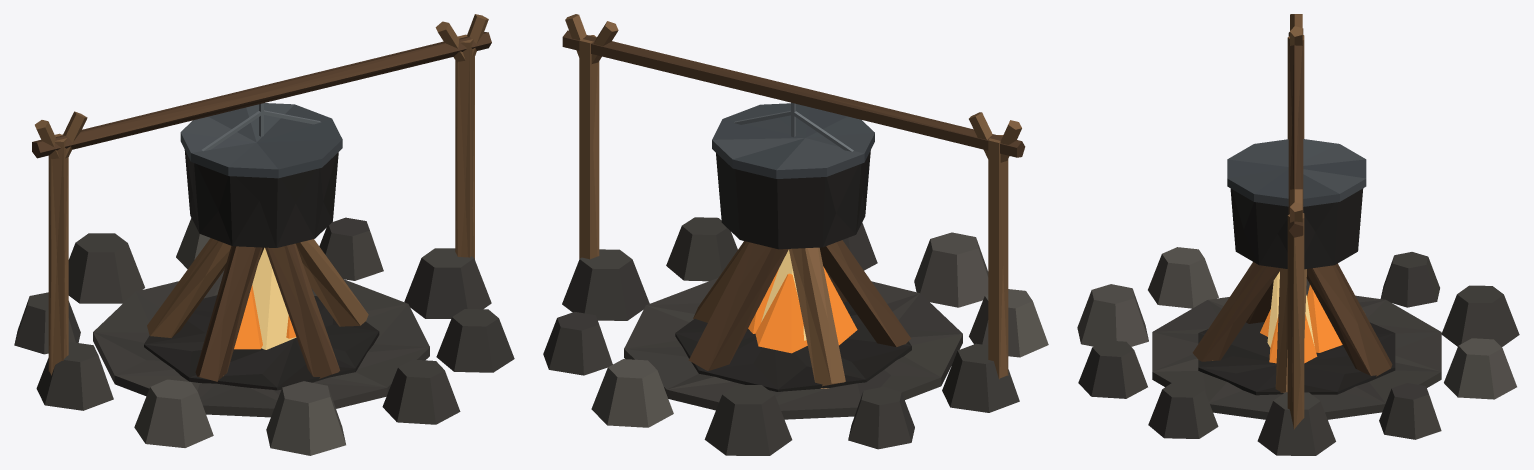
Rendered from campfire_koster_s_kotlom_idle.glb.
The picture shows the model from 3 angles, left to right: view 1: azimuth 30°, elevation 25°; view 2: azimuth 150°, elevation 25°; view 3: azimuth 270°, elevation 25°; orthographic projection. The views are drawn at different scales.
Visible parts, largest first — view 1: campfire_koster_s_kotlom_idle; view 2: campfire_koster_s_kotlom_idle; view 3: campfire_koster_s_kotlom_idle.
Part boxes in pixels (x1,y1,x2,y2): campfire_koster_s_kotlom_idle: (14,14,514,455); campfire_koster_s_kotlom_idle: (543,14,1048,455); campfire_koster_s_kotlom_idle: (1077,14,1519,455).
Bounding box in the file's own units: 0.801 × 0.4805 × 0.756.
2 materials, 2 textured.
